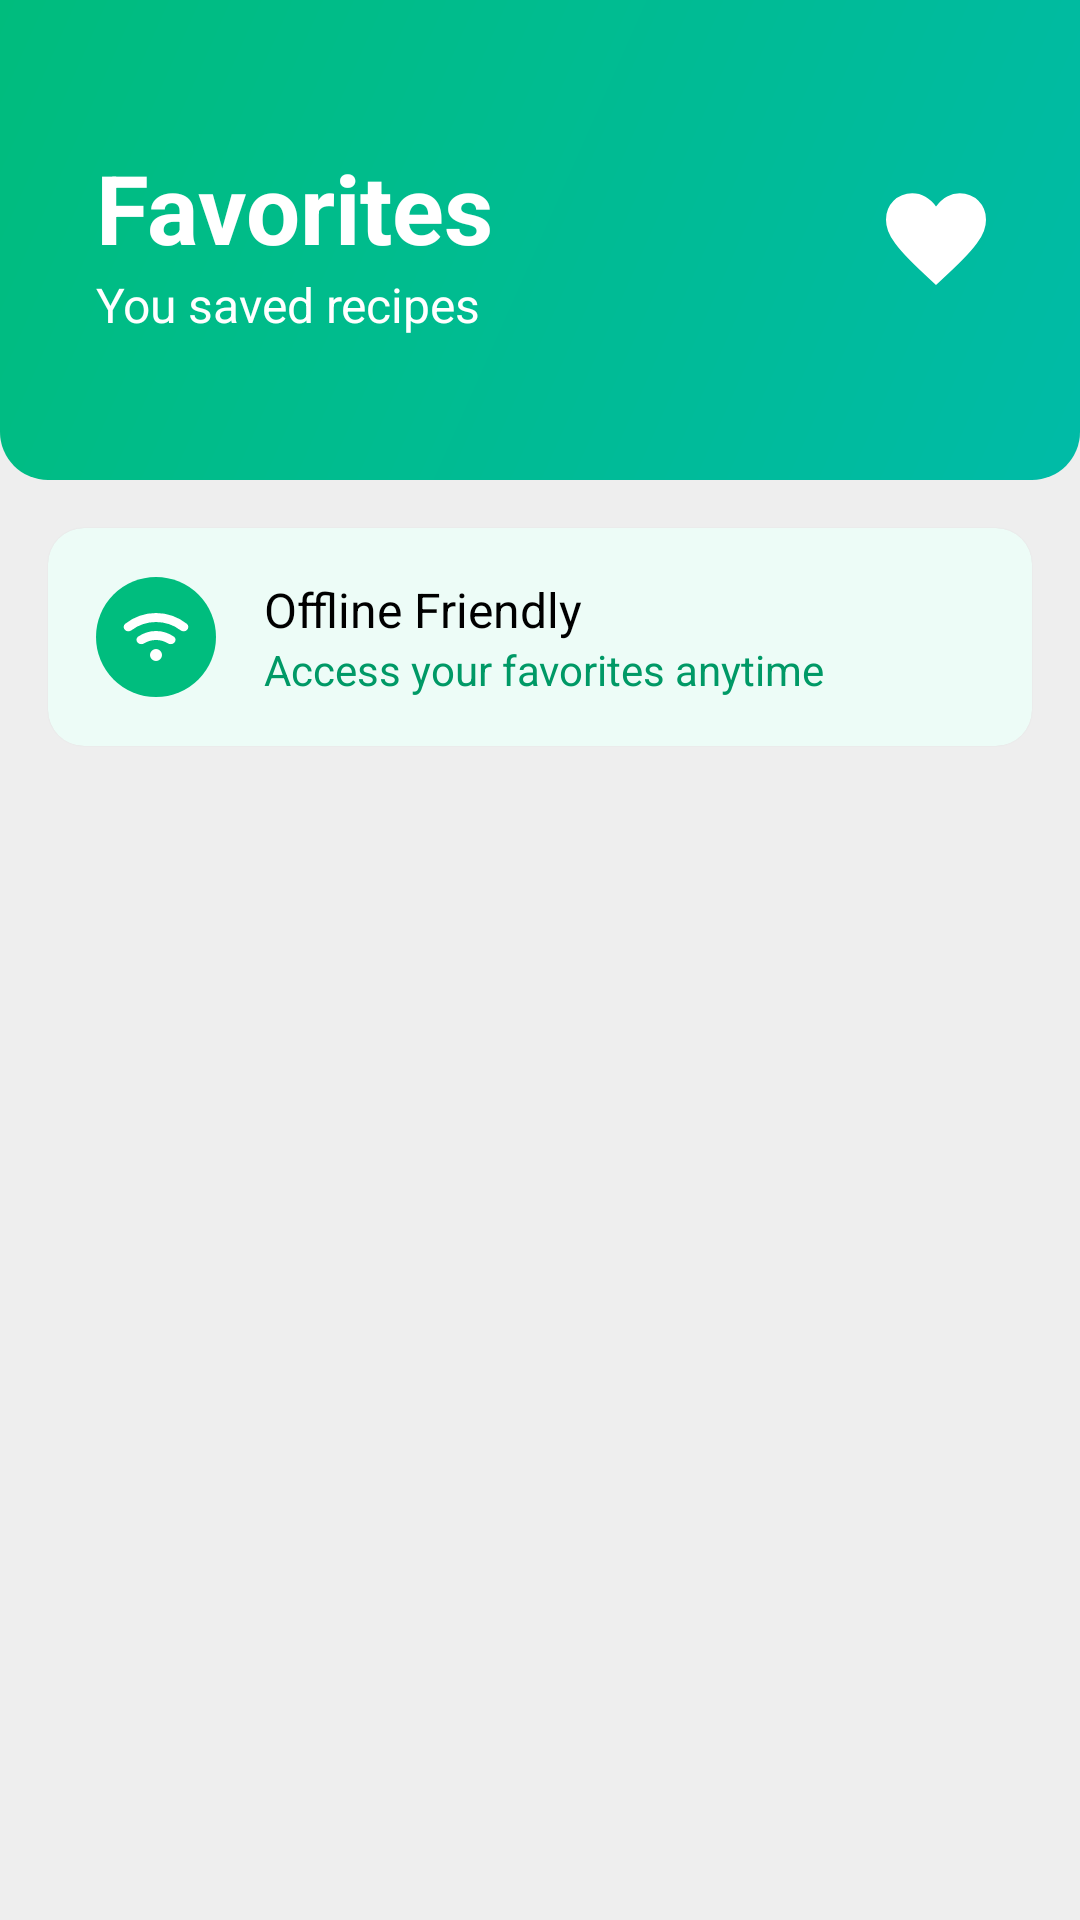

Icons on this 1080 × 1920 Android screen, each with its box as (x1, y1, x2, y2):
fav screen: (886, 193, 986, 285)
wifi: (96, 577, 216, 697)
